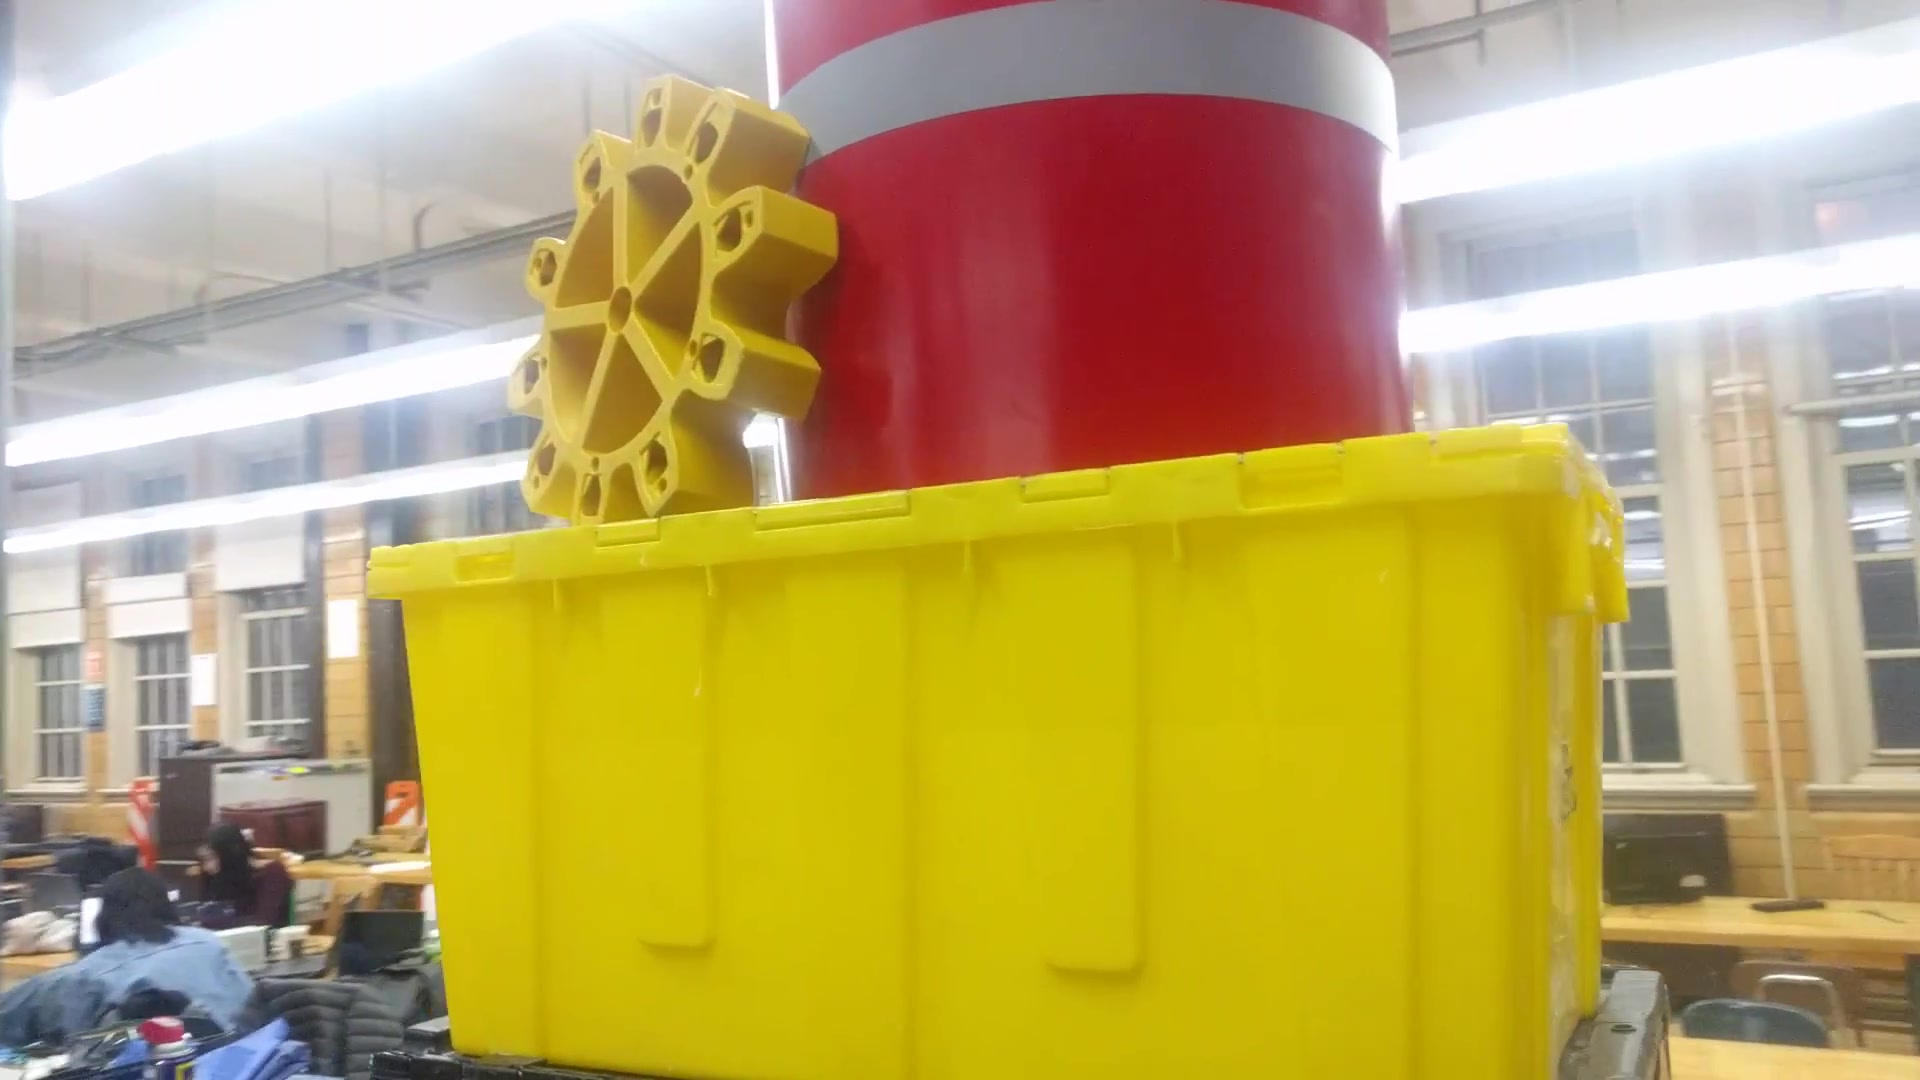gear: (508, 50, 841, 543)
